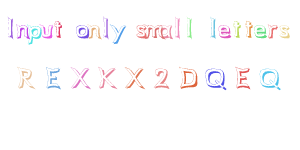2: (150, 64, 173, 92)
D: (175, 63, 202, 95)
E: (229, 62, 257, 93), (42, 62, 66, 94)
I: (1, 11, 21, 43)
K: (93, 64, 122, 94)
Q: (252, 62, 288, 96), (202, 63, 230, 94)
R: (12, 60, 38, 93)
X: (122, 63, 149, 92), (68, 63, 93, 93)
a: (159, 23, 173, 41)
e: (205, 15, 223, 40), (253, 21, 267, 40), (218, 23, 231, 41)
l: (184, 15, 196, 42), (99, 13, 110, 40), (172, 16, 182, 39)
m: (143, 23, 162, 40)
n: (85, 19, 101, 41), (15, 20, 30, 41)
o: (73, 23, 89, 40)
p: (26, 21, 44, 47)
r: (267, 22, 279, 40)
s: (133, 23, 147, 39), (279, 24, 292, 40)
t: (231, 16, 242, 40), (243, 16, 253, 40), (53, 19, 65, 38)
u: (39, 20, 54, 41)
y: (110, 23, 127, 47)
